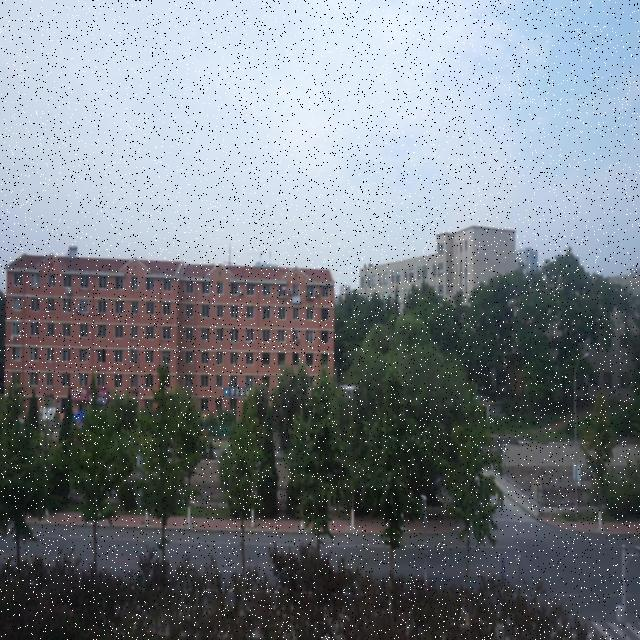UAV: (339, 384, 359, 398)
